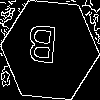B: (25, 25, 58, 73)
